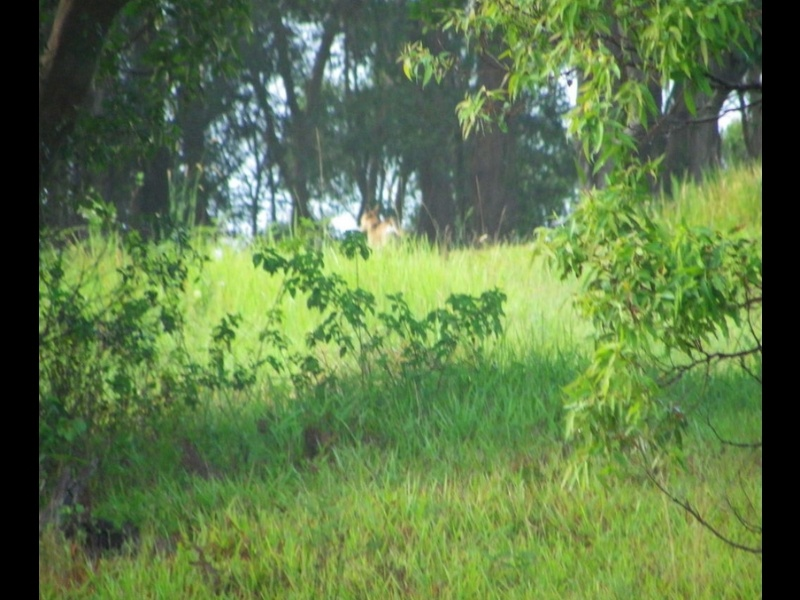dog: (355, 207, 403, 253)
